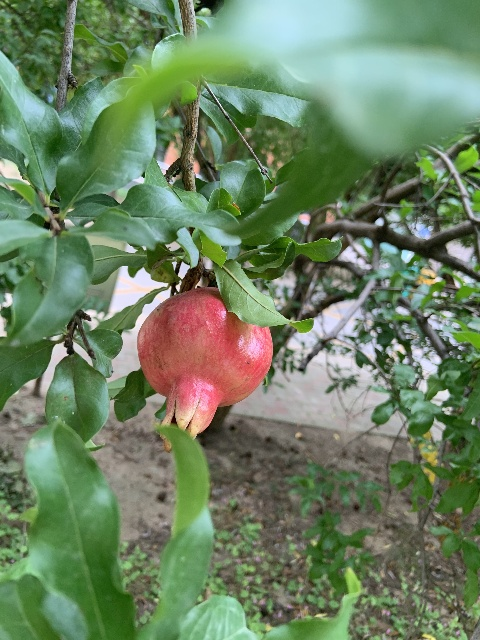ripe: (136, 286, 272, 440)
